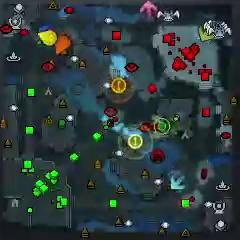Other: (111, 78, 127, 94), (128, 134, 143, 149)
p4: (38, 29, 58, 46)
p5: (55, 34, 71, 54)
x1: (139, 1, 157, 18)
x2: (198, 26, 216, 42)
x3: (171, 175, 185, 189)
